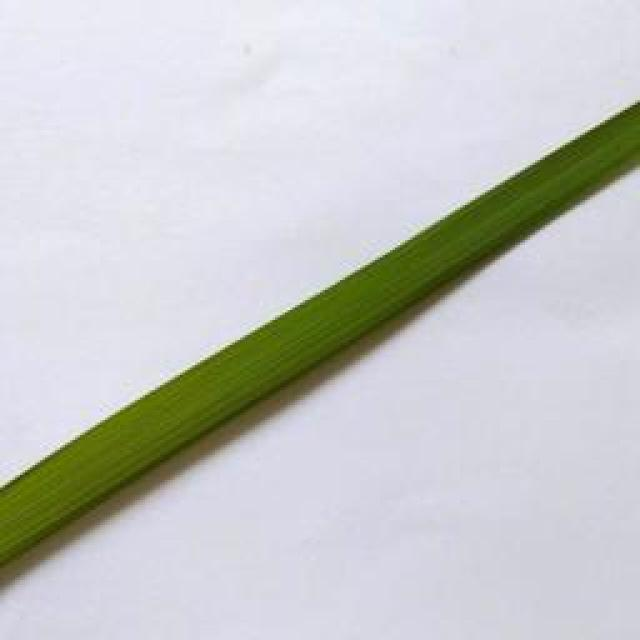Healthy-Plant: (0, 99, 640, 580)
